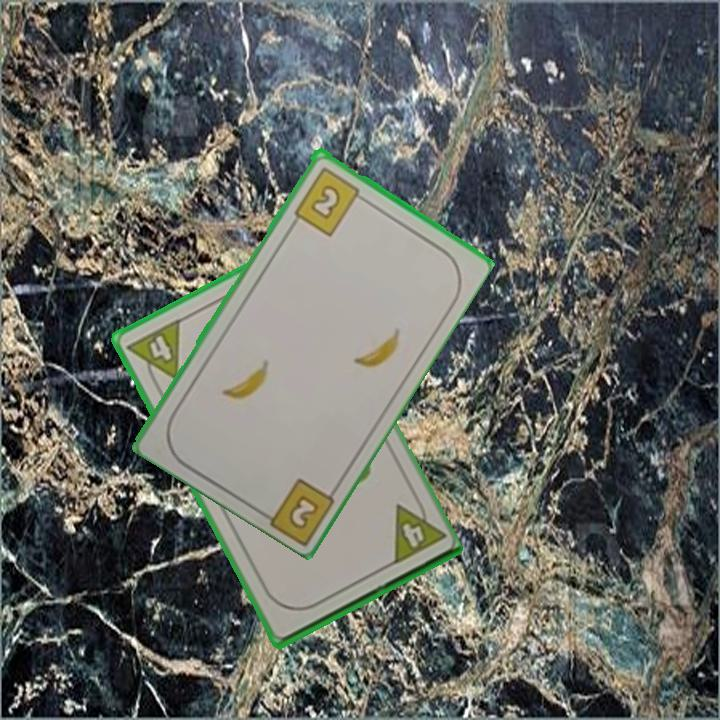2b: (290, 162, 369, 238), (284, 490, 322, 532)
4p: (123, 315, 183, 392), (387, 492, 447, 568)
